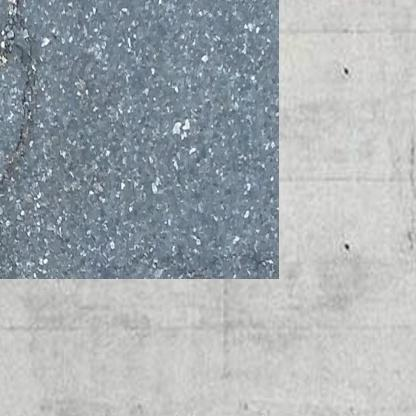Cracks: (0, 0, 34, 258)
